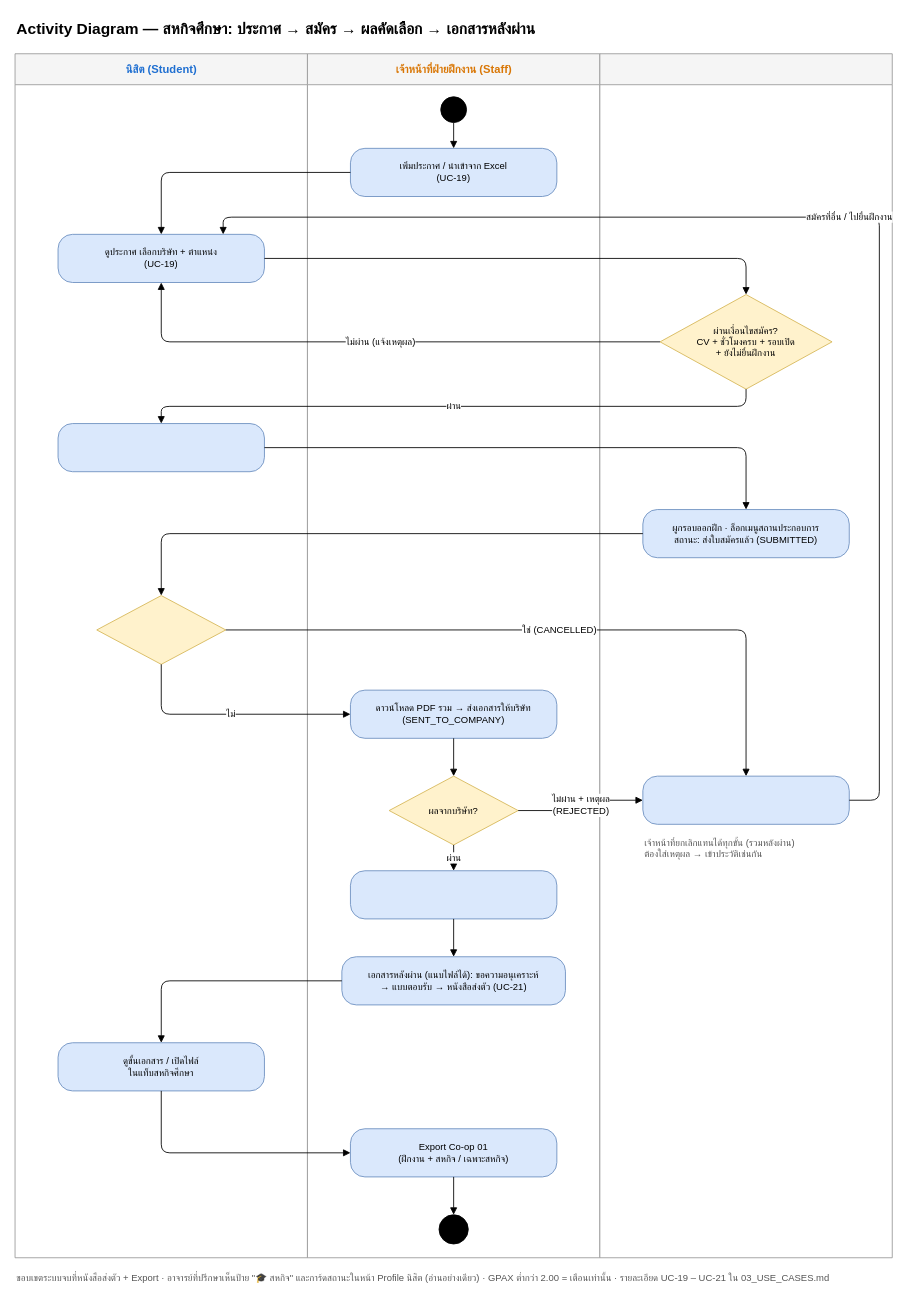
The diagram is 907 pixels wide and 1312 high, and some of its shapes have lost their labels. Each missing label, with the box of its shape:
บันทึกผ่านการคัดเลือก (ACCEPTED): (350, 870, 557, 919)
ยกเลิกเอง? (ก่อนส่งเอกสาร): (96, 595, 226, 664)
ระบบ (System): (599, 53, 892, 1258)
เก็บใบสมัครเข้าประวัติ ปลดล็อกเมนูสถานประกอบการ: (642, 775, 849, 824)
แนบ Resume (จาก CV / อัปโหลด) + Transcript (+ Portfolio) → ยืนยัน (UC-20): (57, 423, 264, 472)
